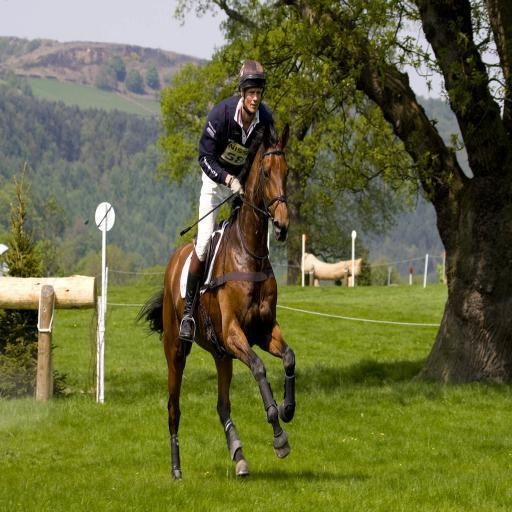horse: (130, 120, 298, 486)
